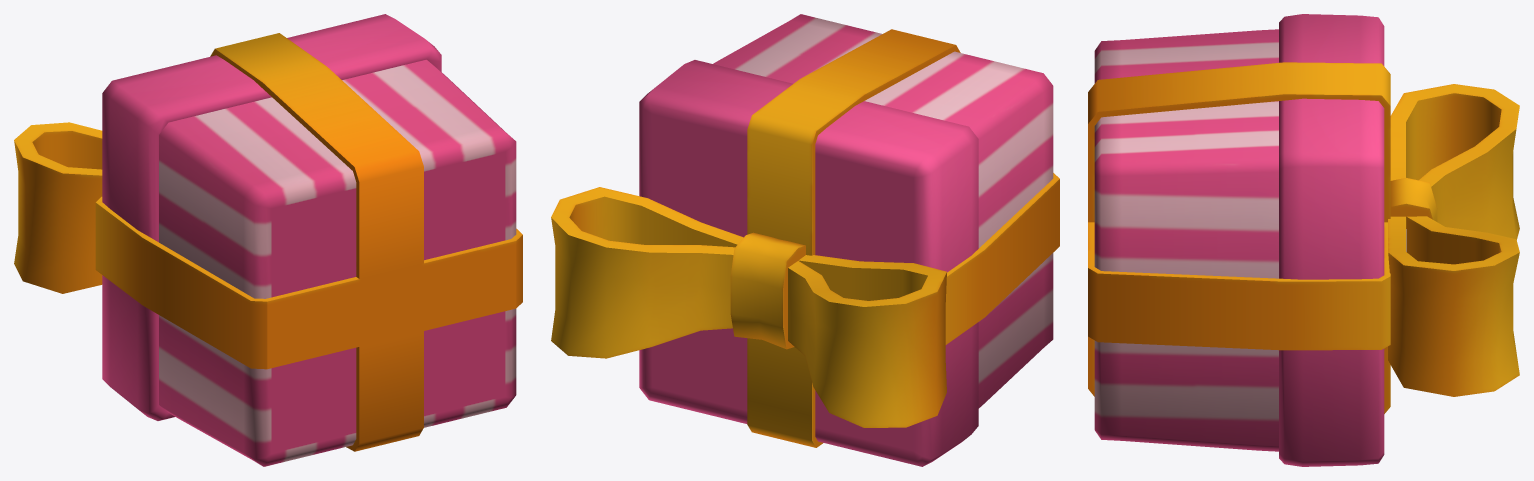
File: Gift.FBX
3 renders of one model, left to right at view 1: azimuth 30°, elevation 25°; view 2: azimuth 150°, elevation 25°; view 3: azimuth 270°, elevation 25°, orthographic.
Visible parts, largest first — view 1: Gift; view 2: Gift; view 3: Gift.
Boxes of the visible parts, <box> form: Gift: <box>14,14,522,466</box>; Gift: <box>551,14,1059,466</box>; Gift: <box>1088,14,1519,466</box>.
Bounding box in the file's own units: 32.81 × 26.51 × 31.99.
1 material, 1 textured.
